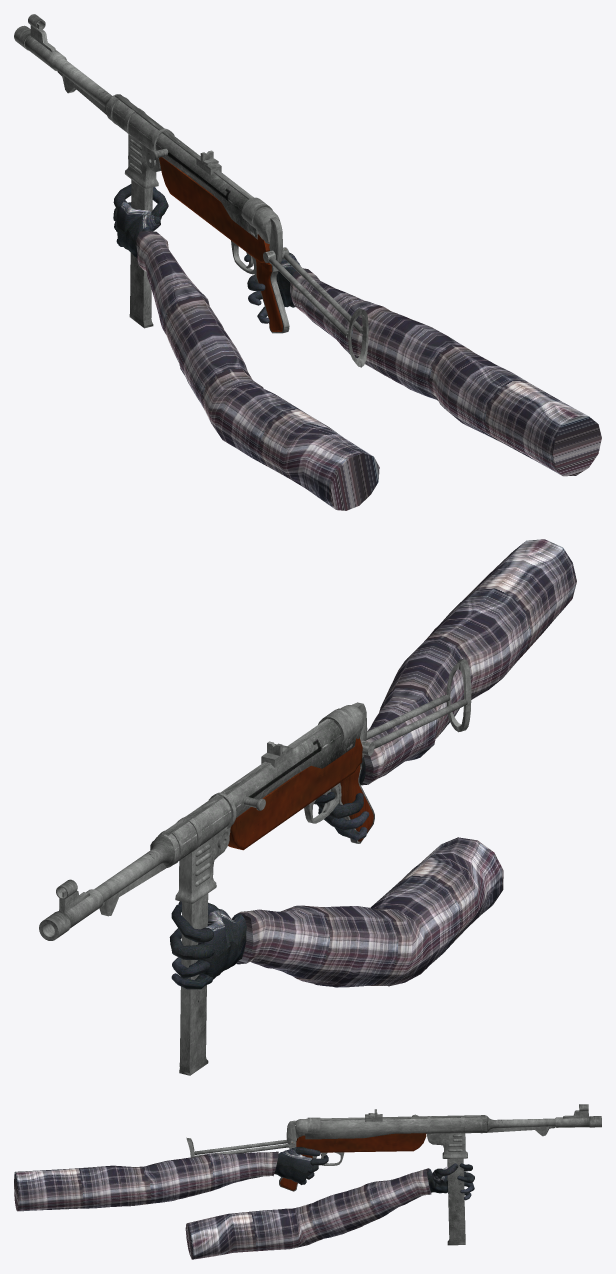
File: mp40_vfire.fbx
3 renders of one model, top to bottom at view 1: azimuth 30°, elevation 25°; view 2: azimuth 150°, elevation 25°; view 3: azimuth 270°, elevation 25°, orthographic. The views are drawn at different scales.
Visible parts, largest first — view 1: larm, rarm, mp40_reciever, mp40_wood, mp40_clip, mp40_barrel, mp40_stockwire, lhand, mp40_pistolgripwood, mp40_stock; view 2: larm, rarm, mp40_reciever, mp40_wood, mp40_clip, mp40_barrel, lhand, mp40_stockwire, mp40_stock, mp40_pistolgripwood, lmfinger; view 3: rarm, larm, mp40_reciever, mp40_wood, mp40_clip, mp40_barrel, rhand, mp40_stockwire, lhand, mp40_battlemount, mp40_frontsight.
Part boxes in pixels (bbox=[...]): larm: bbox=[136, 231, 379, 510]; rarm: bbox=[290, 268, 601, 476]; mp40_reciever: bbox=[106, 94, 279, 243]; mp40_wood: bbox=[159, 157, 269, 264]; mp40_clip: bbox=[129, 179, 153, 328]; mp40_barrel: bbox=[14, 25, 112, 114]; mp40_stockwire: bbox=[269, 253, 362, 337]; lhand: bbox=[116, 201, 160, 257]; mp40_pistolgripwood: bbox=[255, 259, 282, 331]; mp40_stock: bbox=[348, 308, 368, 367]; larm: bbox=[232, 837, 503, 987]; rarm: bbox=[361, 539, 576, 785]; mp40_reciever: bbox=[158, 705, 363, 903]; mp40_wood: bbox=[228, 738, 362, 850]; mp40_clip: bbox=[179, 893, 208, 1075]; mp40_barrel: bbox=[39, 835, 174, 940]; lhand: bbox=[197, 909, 246, 979]; mp40_stockwire: bbox=[366, 694, 467, 748]; mp40_stock: bbox=[446, 658, 471, 732]; mp40_pistolgripwood: bbox=[340, 765, 373, 841]; lmfinger: bbox=[169, 928, 214, 959]; rarm: bbox=[14, 1151, 278, 1211]; larm: bbox=[185, 1168, 431, 1259]; mp40_reciever: bbox=[295, 1115, 487, 1158]; mp40_wood: bbox=[296, 1133, 426, 1152]; mp40_clip: bbox=[447, 1158, 465, 1245]; mp40_barrel: bbox=[487, 1116, 601, 1132]; rhand: bbox=[274, 1147, 313, 1183]; mp40_stockwire: bbox=[194, 1139, 288, 1156]; lhand: bbox=[427, 1166, 464, 1193]; mp40_battlemount: bbox=[488, 1126, 555, 1136]; mp40_frontsight: bbox=[563, 1104, 588, 1118].
Bounding box in the file's own units: 11.12 × 16.9 × 58.
